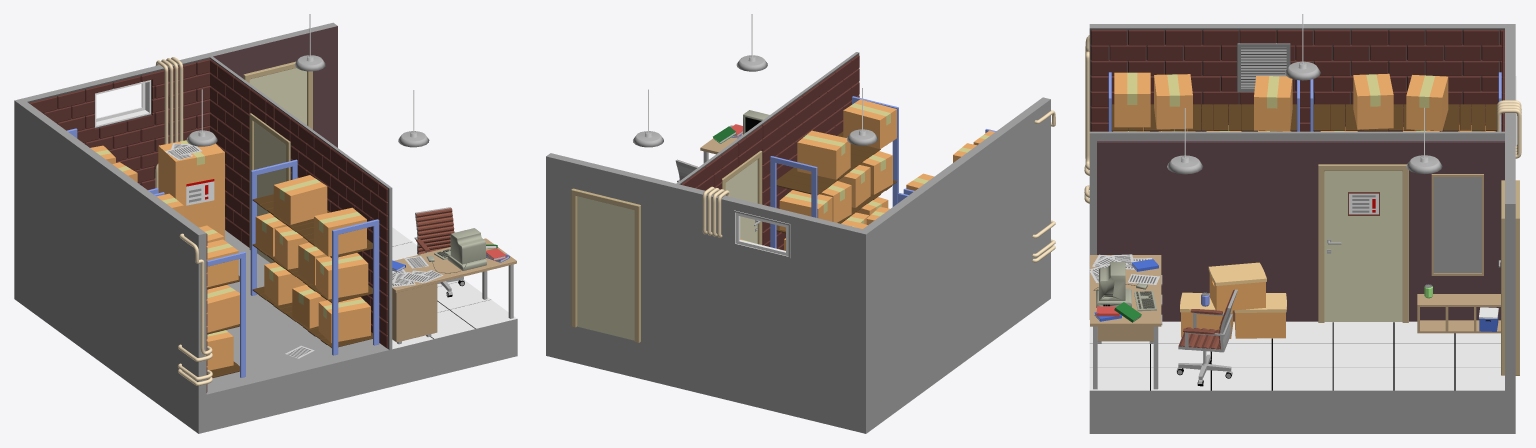
File: room_1_stashed.fbx
3 views of the same model, side by side, from view 1: azimuth 30°, elevation 25°; view 2: azimuth 150°, elevation 25°; view 3: azimuth 270°, elevation 25° (orthographic). The views are drawn at different scales.
Visible parts, largest first — view 1: КриваяБезье; view 2: КриваяБезье; view 3: КриваяБезье.
Boxes of the visible parts, x1,y1,x2,y2 form: КриваяБезье: (14,14,517,433); КриваяБезье: (546,14,1055,433); КриваяБезье: (1084,14,1521,433).
Size of the model in its own units: 1013 by 761 by 1026.
